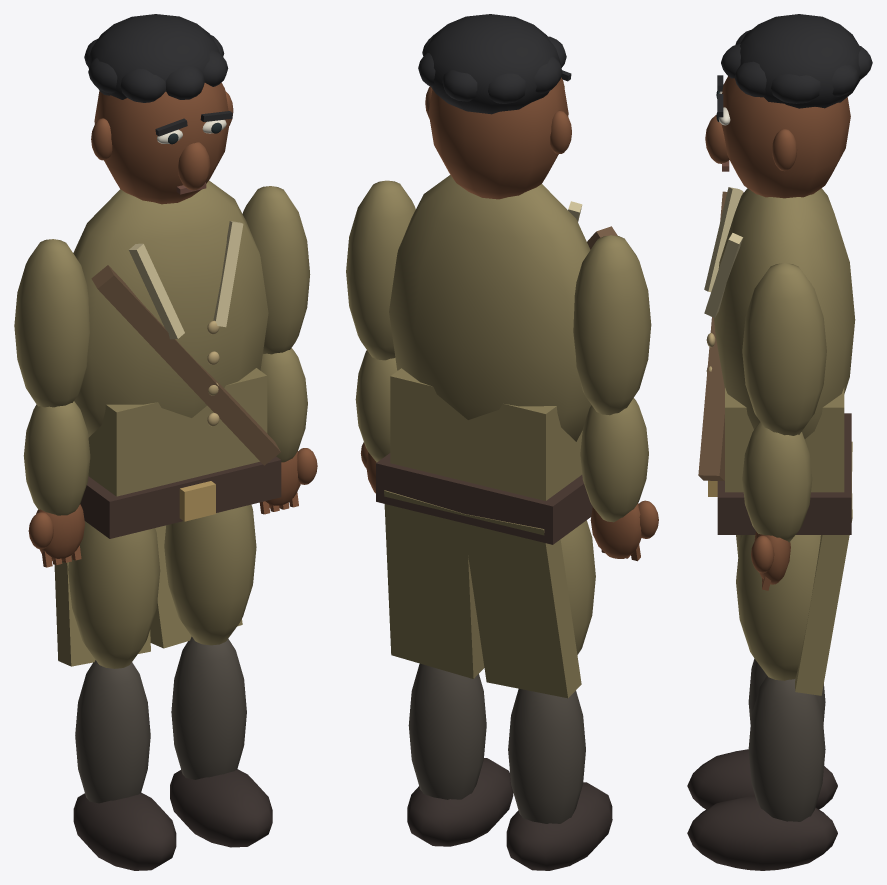
The model's file is bondsmith.glb.
3 views of the same model, side by side, from view 1: azimuth 30°, elevation 25°; view 2: azimuth 150°, elevation 25°; view 3: azimuth 270°, elevation 25° (orthographic). The views are drawn at different scales.
Visible parts, largest first — view 1: radiant_9_stone, shin_and_foot_stone (×2), face_and_hair_stone, thigh_stone (×2), upper_arm_stone (×2), forearm_and_fingers_stone (×2), split_cloth_stone, radiant_9_metal; view 2: radiant_9_stone, split_cloth_stone, shin_and_foot_stone (×2), face_and_hair_stone, upper_arm_stone (×2), forearm_and_fingers_stone (×2), thigh_stone; view 3: radiant_9_stone, face_and_hair_stone, shin_and_foot_stone (×2), upper_arm_stone, forearm_and_fingers_stone, thigh_stone, split_cloth_stone.
Part boxes in pixels (x1=…): radiant_9_stone: x1=73, y1=180, x2=281, y2=538; shin_and_foot_stone (×2): x1=73, y1=636, x2=272, y2=870; face_and_hair_stone: x1=84, y1=14, x2=233, y2=204; thigh_stone (×2): x1=68, y1=504, x2=256, y2=668; upper_arm_stone (×2): x1=14, y1=186, x2=310, y2=407; forearm_and_fingers_stone (×2): x1=23, y1=348, x2=317, y2=567; split_cloth_stone: x1=54, y1=525, x2=242, y2=666; radiant_9_metal: x1=179, y1=320, x2=219, y2=521; radiant_9_stone: x1=376, y1=175, x2=617, y2=544; split_cloth_stone: x1=384, y1=490, x2=581, y2=698; shin_and_foot_stone (×2): x1=407, y1=663, x2=612, y2=870; face_and_hair_stone: x1=418, y1=14, x2=571, y2=199; upper_arm_stone (×2): x1=346, y1=180, x2=651, y2=415; forearm_and_fingers_stone (×2): x1=355, y1=350, x2=658, y2=561; thigh_stone: x1=560, y1=520, x2=595, y2=654; radiant_9_stone: x1=698, y1=187, x2=855, y2=534; face_and_hair_stone: x1=705, y1=14, x2=872, y2=198; shin_and_foot_stone (×2): x1=687, y1=658, x2=837, y2=870; upper_arm_stone: x1=742, y1=263, x2=826, y2=435; forearm_and_fingers_stone: x1=742, y1=422, x2=812, y2=590; thigh_stone: x1=736, y1=535, x2=820, y2=680; split_cloth_stone: x1=795, y1=441, x2=852, y2=695.
Size of the model in its own units: 0.684 by 1.86 by 0.381.
